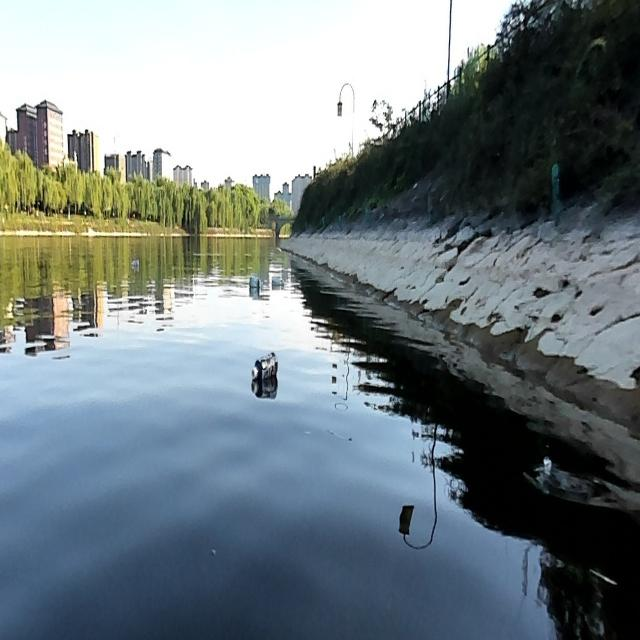bottle: (249, 347, 279, 384), (246, 271, 264, 289), (270, 272, 285, 287), (128, 256, 140, 268)
